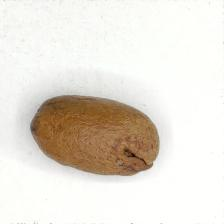NG: (115, 135, 161, 177)
